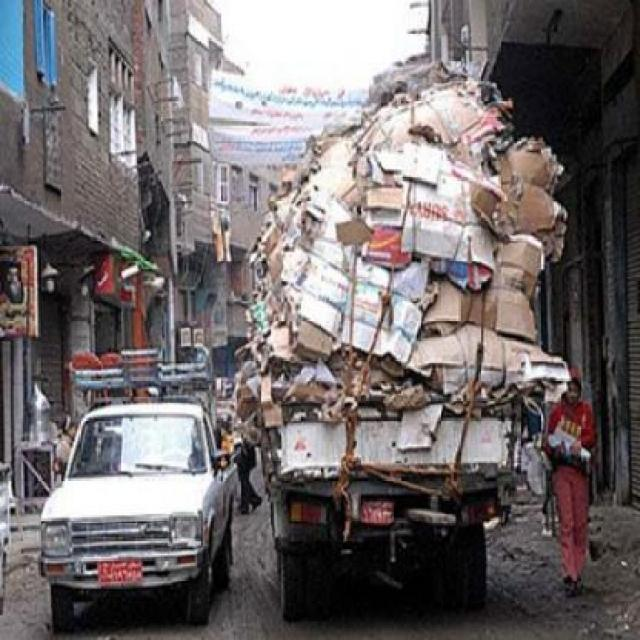garbage: (277, 66, 530, 478)
